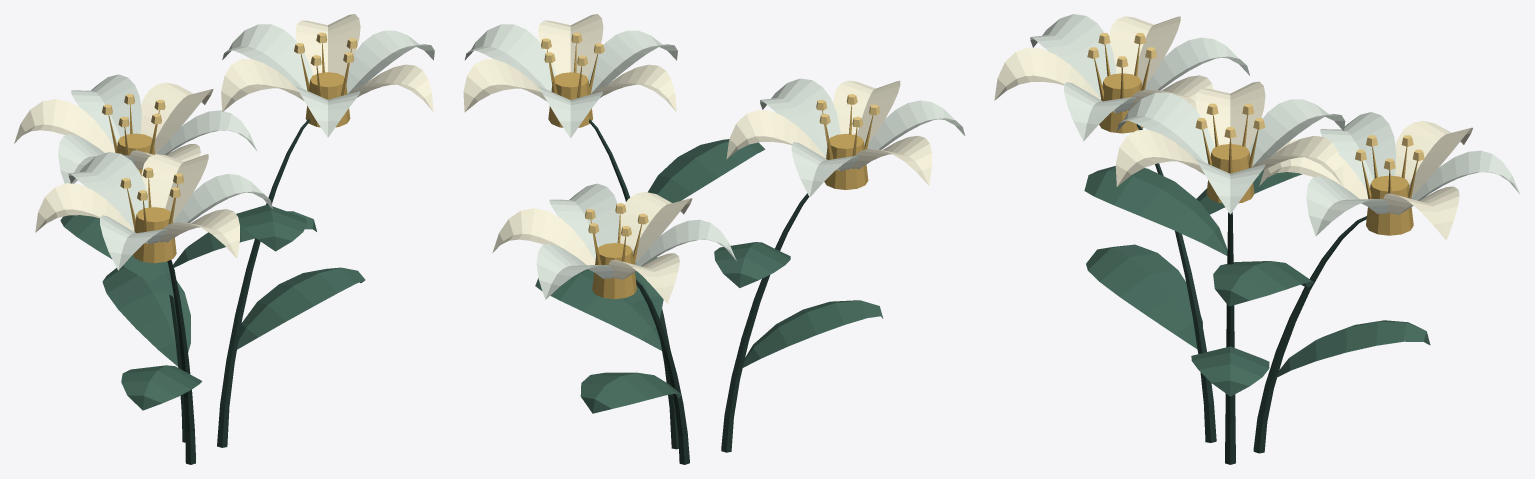
File: ALPINE_BLOOM.hi.glb
3 views of the same model, side by side, from view 1: azimuth 30°, elevation 25°; view 2: azimuth 150°, elevation 25°; view 3: azimuth 270°, elevation 25° (orthographic). The views are drawn at different scales.
Parts seen in each view (by area): view 1: ALPINE_BLOOM; view 2: ALPINE_BLOOM; view 3: ALPINE_BLOOM.
Boxes of the visible parts, x1,y1,x2,y2 form: ALPINE_BLOOM: (14, 14, 434, 464); ALPINE_BLOOM: (463, 14, 965, 464); ALPINE_BLOOM: (994, 14, 1520, 464).
Size of the model in its own units: 0.334 by 0.2773 by 0.329.
1 material, 1 textured.
